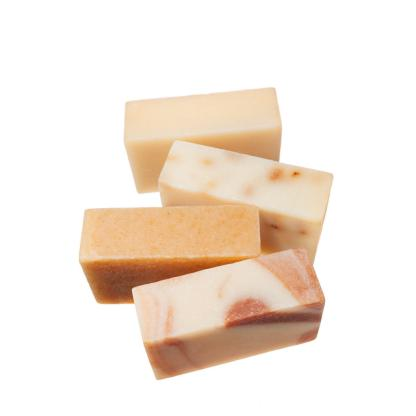soap: (131, 245, 330, 385), (154, 140, 348, 278), (76, 203, 267, 308), (119, 85, 286, 196)
